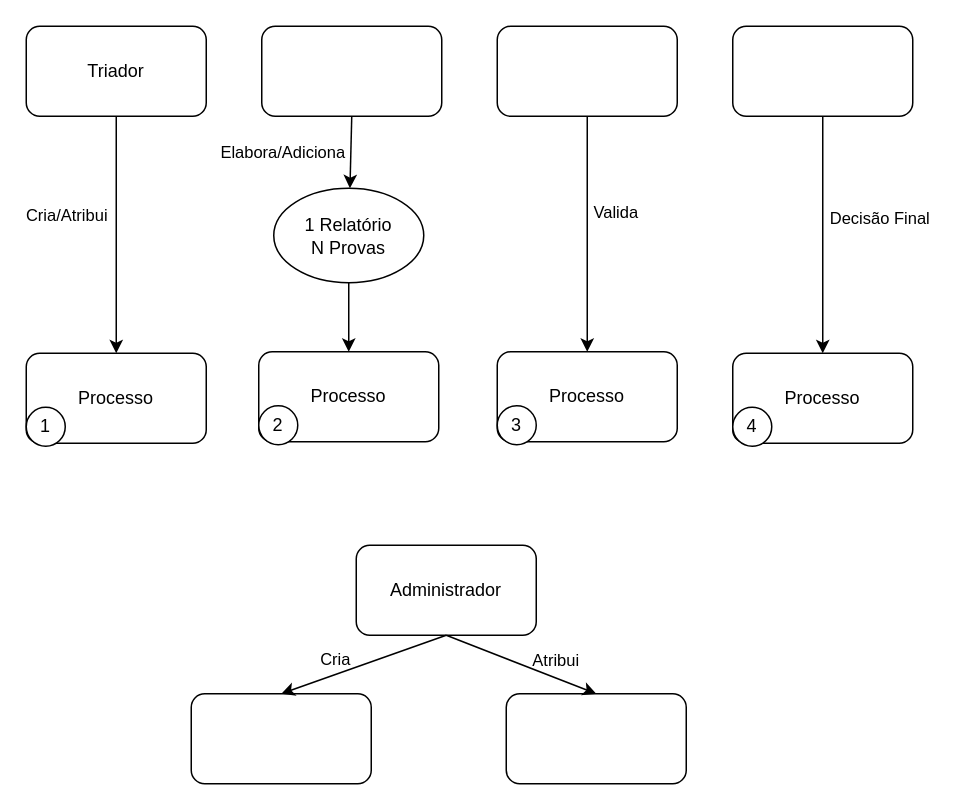
The diagram is 956 pixels wide and 810 high, and some of its shapes have lost their labels. Each missing label, with the centre of its shape:
"Averiguador" belongs at point (351, 70).
"Gestor" belongs at point (822, 70).
"Papéis" belongs at point (595, 738).
"Supervisor" belongs at point (586, 70).
"Utilizadores" belongs at point (280, 738).
